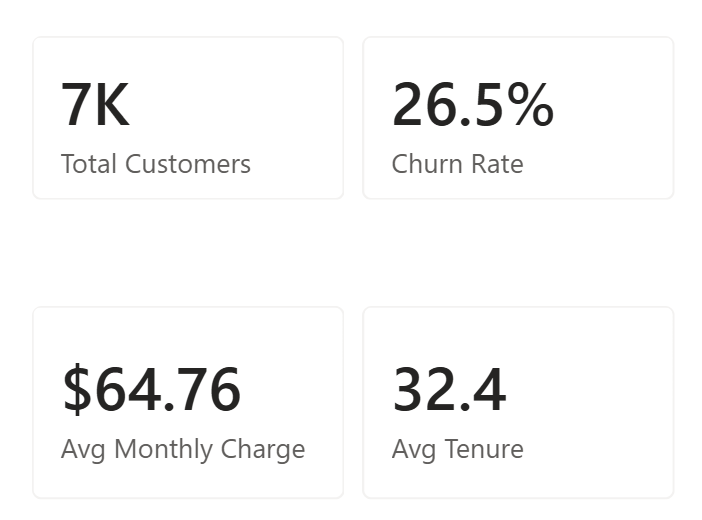

Layout of this report page (visuals, bound fields, positions):
{"tool":"powerbi","page":{"name":"Customer Segment Tooltip","canvas":[320,240],"ordinal":2},"visuals":[{"type":"cardVisual","fields":{"Data":["Measure.Avg Monthly Charge","Measure.Avg Tenure"]},"box":[0,120,320,120],"z":0},{"type":"cardVisual","fields":{"Data":["Measure.Total Customers","Measure.Churn Rate"]},"box":[0,0,320,107.5],"z":1000}]}

Visuals, with their boxes in screenshot pixels (x1, y1, x2, y2), scaled from the page's 320x240 canvas onto the 702x520 screenshot:
cardVisual - Measure.Avg Monthly Charge x Measure.Avg Tenure: box=[0, 260, 701, 519]
cardVisual - Measure.Total Customers x Measure.Churn Rate: box=[0, 0, 701, 233]
